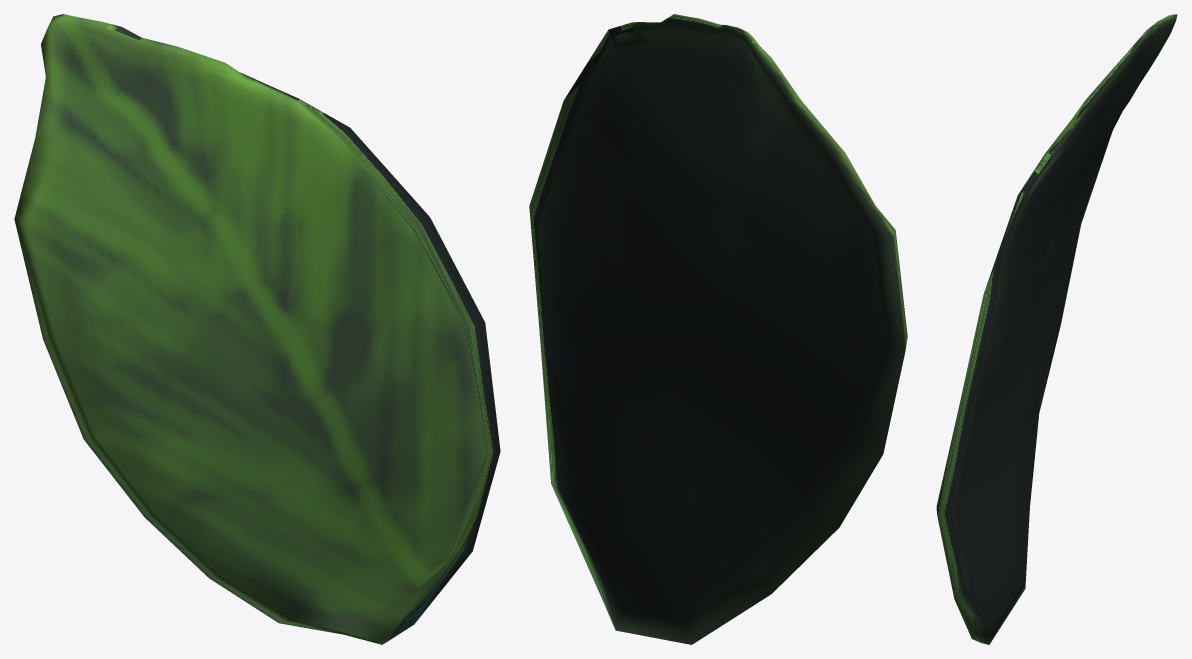
3 views of the same model, side by side, from view 1: azimuth 30°, elevation 25°; view 2: azimuth 150°, elevation 25°; view 3: azimuth 270°, elevation 25° (orthographic). The views are drawn at different scales.
Parts seen in each view (by area): view 1: hortensja.003; view 2: hortensja.003; view 3: hortensja.003.
Boxes of the visible parts, <box> form: hortensja.003: <box>14,14,500,644</box>; hortensja.003: <box>529,14,907,644</box>; hortensja.003: <box>936,14,1177,644</box>.
Size of the model in its own units: 0.7802 by 1.17 by 0.4746.
1 material, 1 textured.
